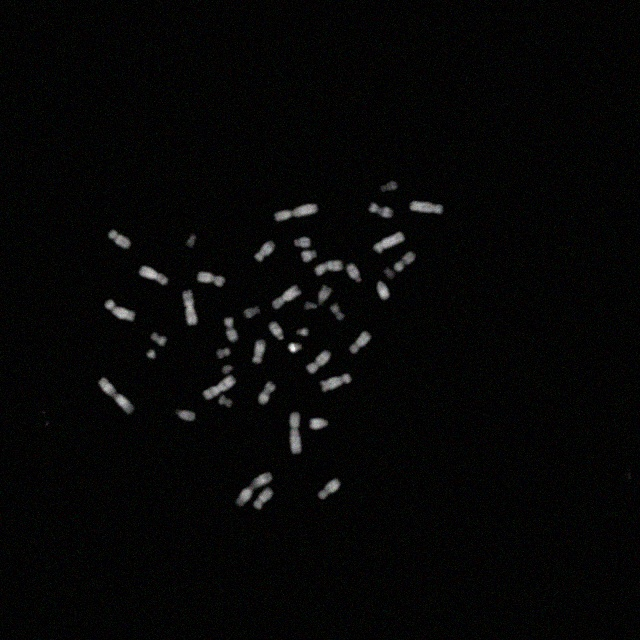chromosome: (99, 377, 133, 413), (204, 374, 236, 400), (275, 203, 319, 221), (304, 285, 332, 311), (273, 286, 301, 310), (105, 299, 135, 321), (288, 411, 302, 454), (374, 232, 404, 252), (307, 351, 331, 374), (321, 374, 351, 392), (140, 266, 168, 284), (183, 290, 197, 326), (253, 240, 274, 262), (316, 261, 344, 277), (394, 252, 416, 272), (410, 200, 442, 213), (350, 332, 370, 352), (258, 381, 274, 405), (198, 273, 224, 287), (110, 230, 130, 248), (370, 203, 392, 217), (252, 340, 266, 362), (346, 264, 362, 282), (225, 318, 237, 342), (270, 320, 284, 340), (376, 280, 389, 300), (175, 409, 195, 421), (151, 332, 167, 346), (332, 304, 344, 322), (310, 418, 328, 430), (301, 250, 317, 262), (244, 306, 260, 318), (380, 182, 398, 192), (218, 396, 232, 408), (294, 237, 310, 247), (288, 342, 304, 352), (186, 235, 196, 248), (296, 327, 308, 337), (218, 348, 230, 358), (146, 350, 156, 360), (386, 268, 394, 280), (222, 366, 232, 374)
